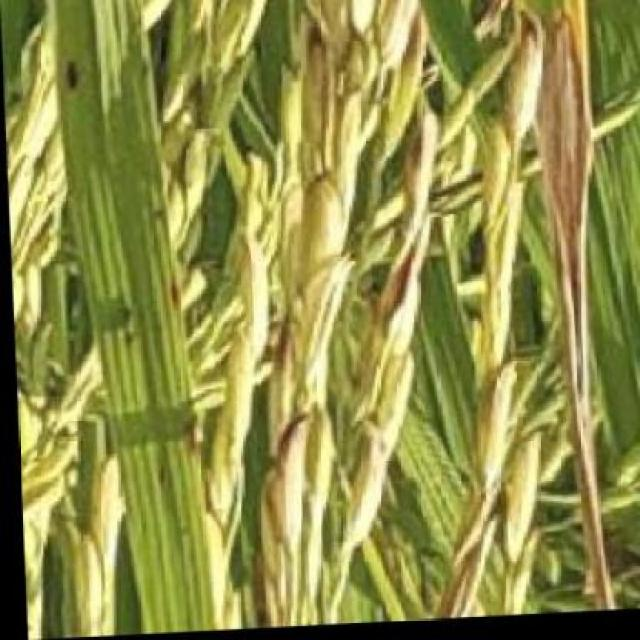Brown_Spot: (511, 0, 620, 612)
Leaf_Blast: (58, 44, 91, 99)
